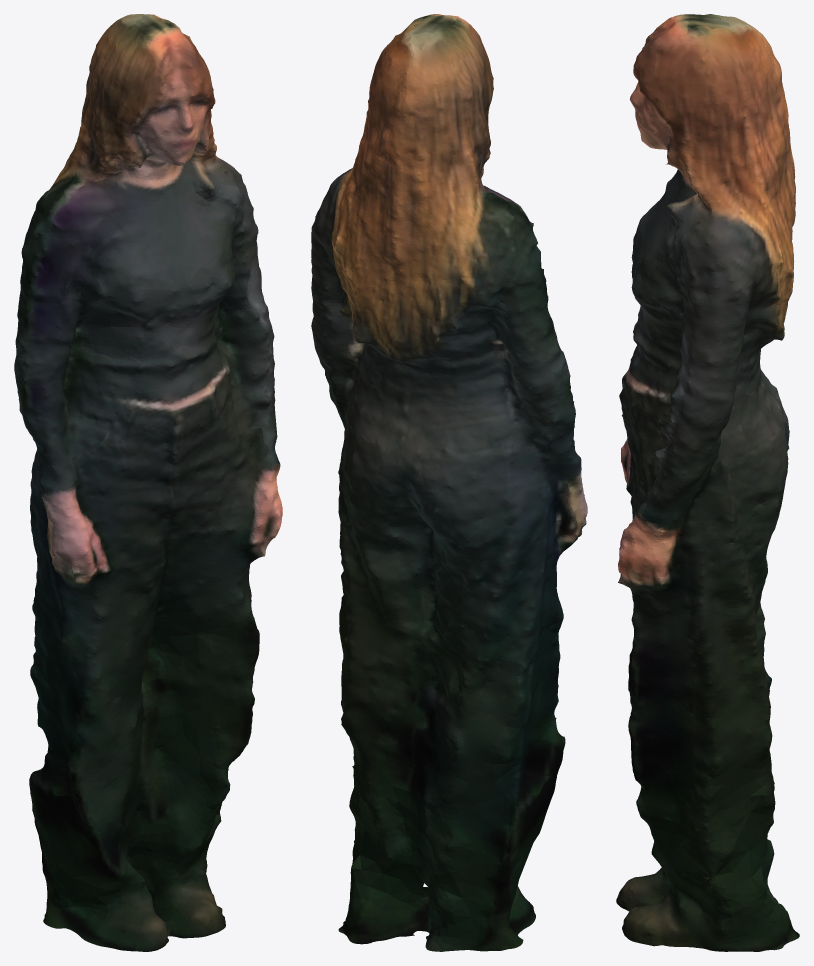
Rendered from mak.glb.
The picture shows the model from 3 angles, left to right: view 1: azimuth 30°, elevation 25°; view 2: azimuth 150°, elevation 25°; view 3: azimuth 270°, elevation 25°; orthographic projection.
Visible parts, largest first — view 1: mesh; view 2: mesh; view 3: mesh.
Boxes of the visible parts, x1,y1,x2,y2 form: mesh: (14, 14, 282, 951); mesh: (311, 14, 587, 951); mesh: (616, 14, 799, 951).
Size of the model in its own units: 0.5256 by 1.79 by 0.3307.
Materials: 1 (1 with a texture image).
